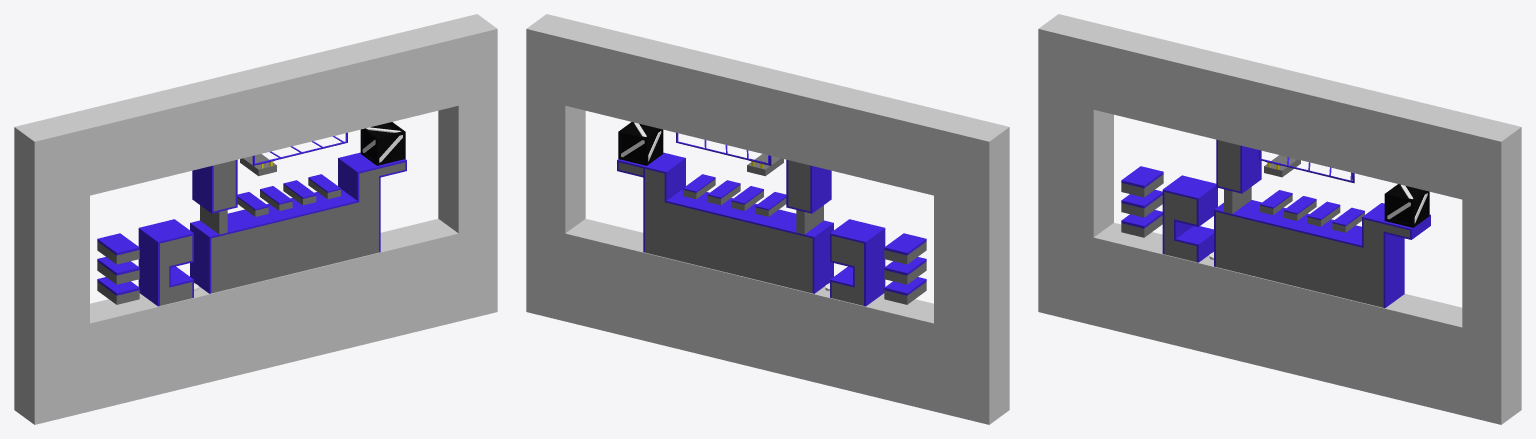
Rendered from Maps.fbx.
3 views of the same model, side by side, from view 1: azimuth 30°, elevation 25°; view 2: azimuth 150°, elevation 25°; view 3: azimuth 330°, elevation 25° (orthographic).
Visible parts, largest first — view 1: Box001, Rectangle018, Rectangle001, Rectangle002, Rectangle010, Rectangle003, Object001, Rectangle005, Rectangle020, Rectangle021, Rectangle023, Rectangle004 (+4 smaller); view 2: Box001, Rectangle018, Rectangle001, Rectangle002, Rectangle010, Rectangle003, Object001, Rectangle005, Rectangle020, Rectangle021, Rectangle023, Rectangle004 (+4 smaller); view 3: Box001, Rectangle018, Rectangle001, Rectangle010, Rectangle002, Rectangle003, Object001, Rectangle005, Rectangle021, Rectangle020, Rectangle011, Rectangle023 (+5 smaller).
Boxes of the visible parts, box(x1,y1,x2,y2) form: Box001: box(14, 14, 497, 424); Rectangle018: box(227, 189, 357, 286); Rectangle001: box(138, 219, 193, 306); Rectangle002: box(190, 220, 240, 293); Rectangle010: box(338, 152, 380, 257); Rectangle003: box(192, 159, 237, 213); Object001: box(360, 122, 405, 165); Rectangle005: box(97, 233, 139, 264); Rectangle020: box(97, 257, 139, 284); Rectangle021: box(97, 277, 139, 304); Rectangle023: box(283, 180, 316, 205); Rectangle004: box(200, 205, 227, 234); Box001: box(526, 14, 1009, 424); Rectangle018: box(666, 189, 796, 286); Rectangle001: box(830, 219, 885, 306); Rectangle002: box(783, 220, 833, 293); Rectangle010: box(643, 152, 685, 257); Rectangle003: box(786, 159, 831, 213); Object001: box(618, 122, 663, 165); Rectangle005: box(884, 233, 926, 264); Rectangle020: box(884, 257, 926, 284); Rectangle021: box(884, 277, 926, 304); Rectangle023: box(707, 180, 740, 205); Rectangle004: box(796, 205, 823, 234); Box001: box(1038, 14, 1521, 424); Rectangle018: box(1245, 206, 1361, 302); Rectangle001: box(1162, 175, 1217, 262); Rectangle010: box(1362, 203, 1404, 307); Rectangle002: box(1214, 200, 1261, 273); Rectangle003: box(1216, 139, 1261, 193); Object001: box(1384, 184, 1429, 227); Rectangle005: box(1121, 166, 1163, 197); Rectangle021: box(1121, 210, 1162, 237); Rectangle020: box(1121, 190, 1162, 217); Rectangle011: box(1385, 214, 1430, 239); Rectangle023: box(1307, 201, 1340, 226).
Bounding box in the file's own units: 3025 × 1768 × 230.
